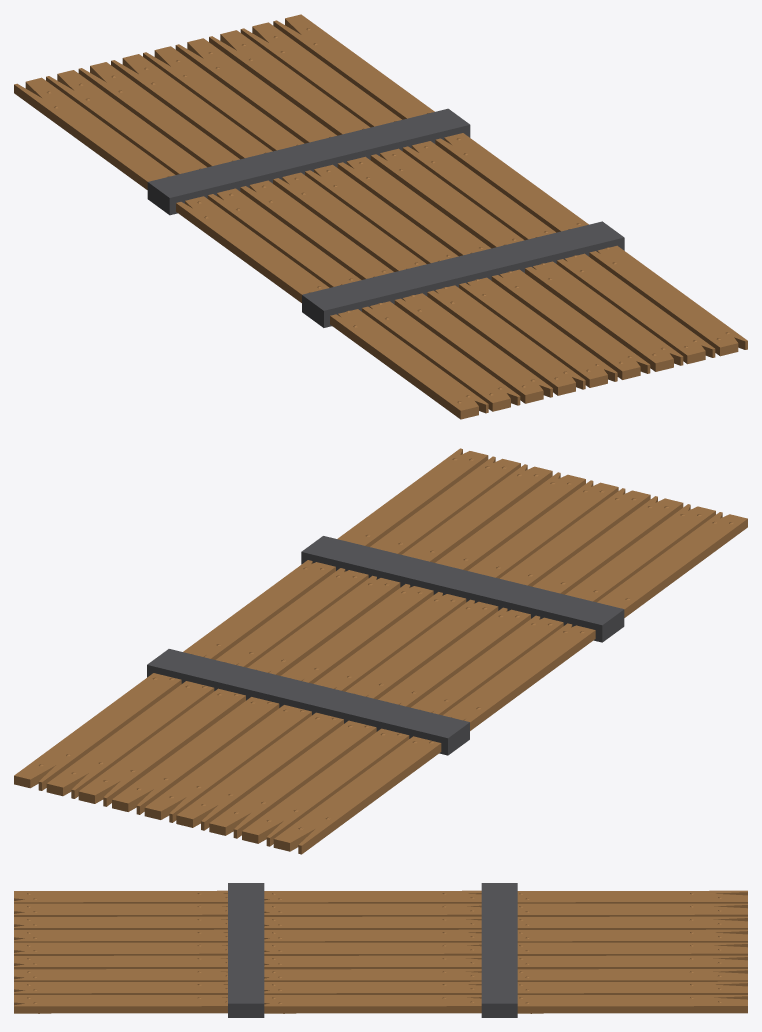
The model's file is Puente gastada.fbx.
3 renders of one model, top to bottom at view 1: azimuth 30°, elevation 25°; view 2: azimuth 150°, elevation 25°; view 3: azimuth 270°, elevation 25°, orthographic. The views are drawn at different scales.
Visible parts, largest first — view 1: polySurface108; view 2: polySurface108; view 3: polySurface108.
Boxes of the visible parts, x1=… form: polySurface108: x1=14, y1=14, x2=747, y2=419; polySurface108: x1=14, y1=448, x2=747, y2=854; polySurface108: x1=14, y1=883, x2=747, y2=1017.
Size of the model in its own units: 4.9 by 0.2988 by 12.59.
